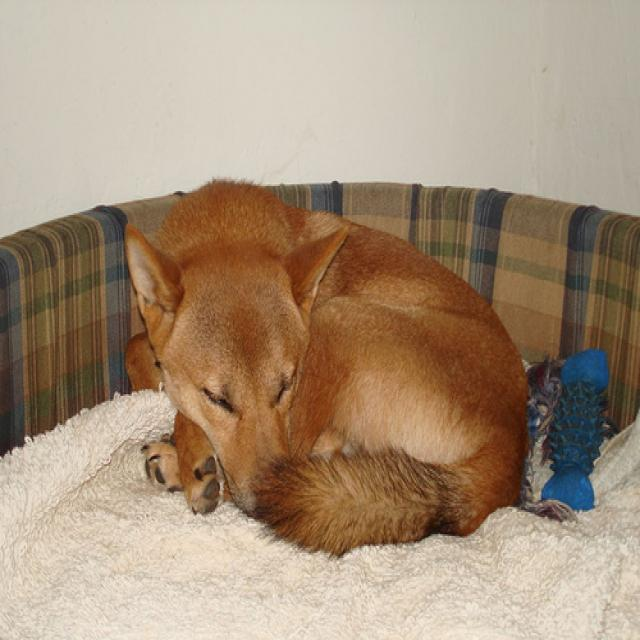dog-shiba_inu: (119, 174, 566, 563)
